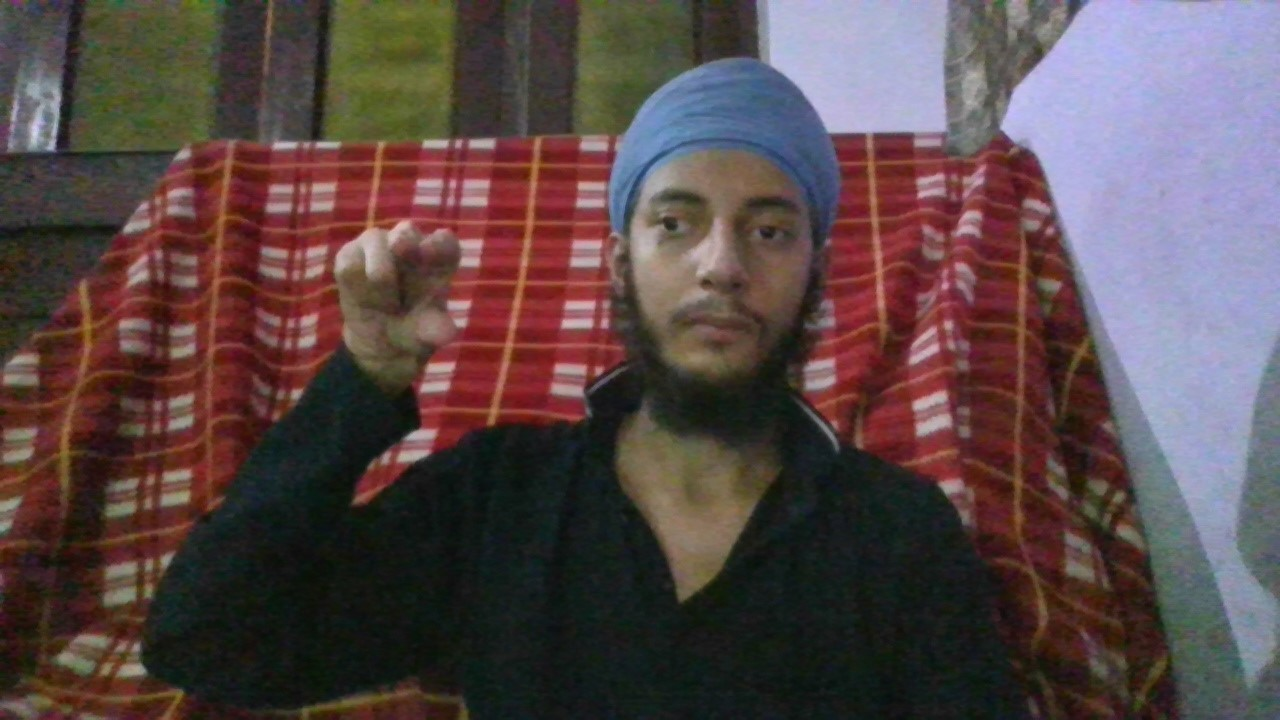No: (328, 217, 459, 355)
